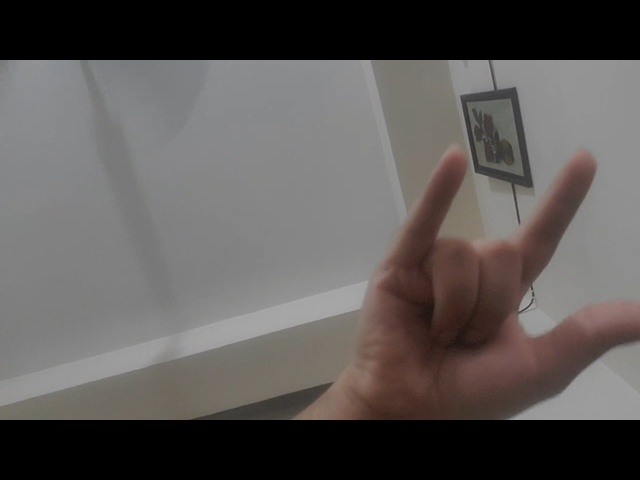I love you: (323, 120, 640, 415)
